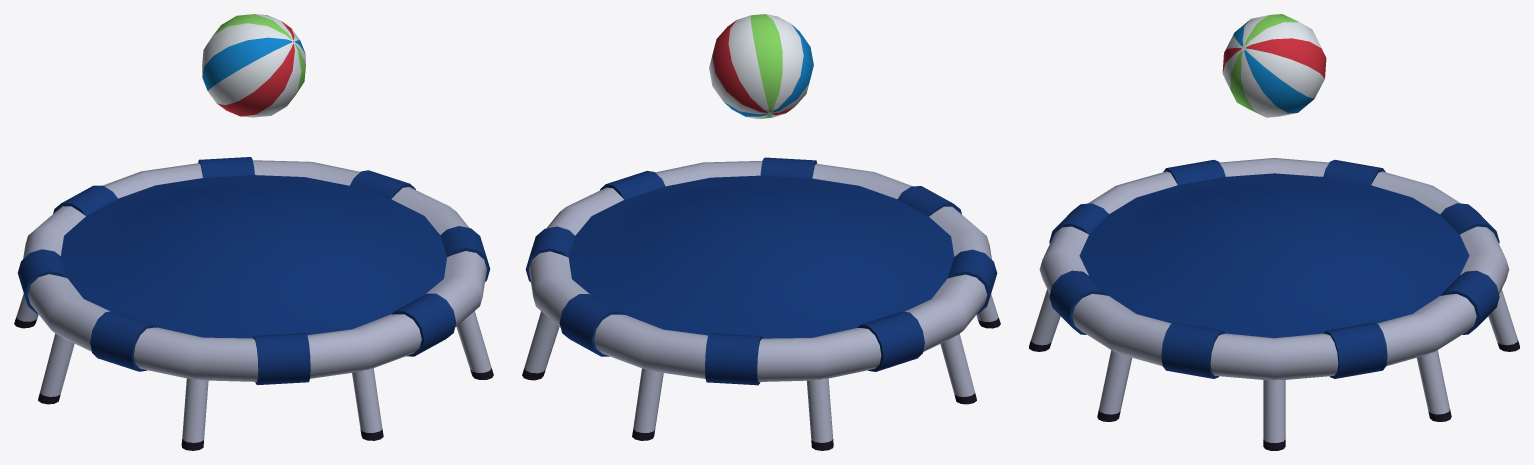
Rendered from trampoline.glb.
3 views of the same model, side by side, from view 1: azimuth 30°, elevation 25°; view 2: azimuth 150°, elevation 25°; view 3: azimuth 270°, elevation 25° (orthographic).
Parts seen in each view (by area): view 1: Trampoline, beachBall; view 2: Trampoline, beachBall; view 3: Trampoline, beachBall.
Part boxes in pixels (x1,y1,x2,y2): Trampoline: (14,157,493,450); beachBall: (202,14,305,117); Trampoline: (522,157,1000,450); beachBall: (709,14,813,119); Trampoline: (1029,158,1519,450); beachBall: (1222,14,1326,117).
Bounding box in the file's own units: 2.76 × 2.03 × 2.76.
1 material, 1 textured.
